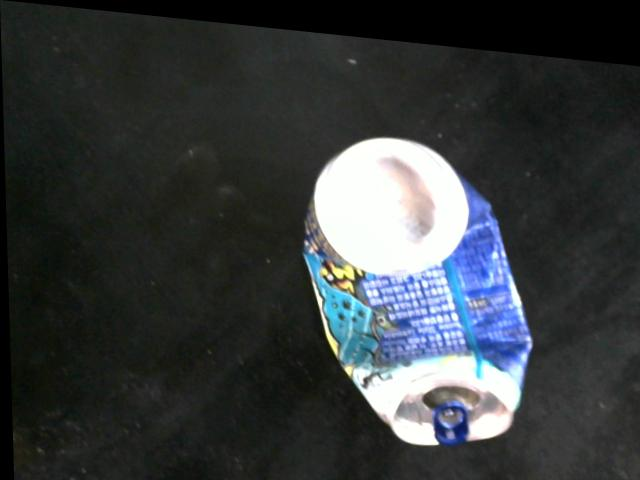can: (292, 129, 535, 444)
